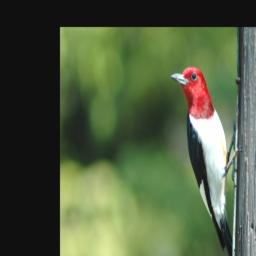Woodpecker: (169, 66, 245, 256)
